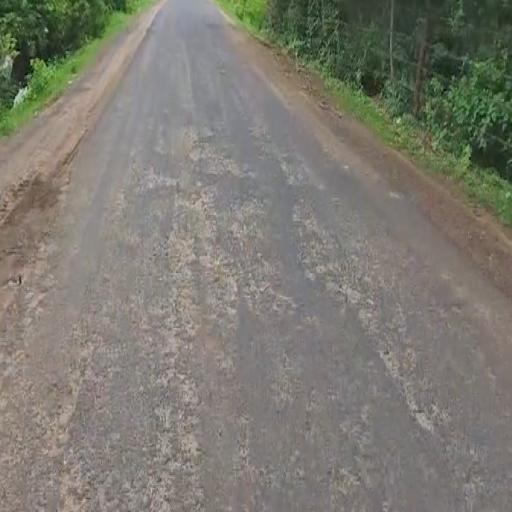ravelling: (118, 112, 361, 474)
